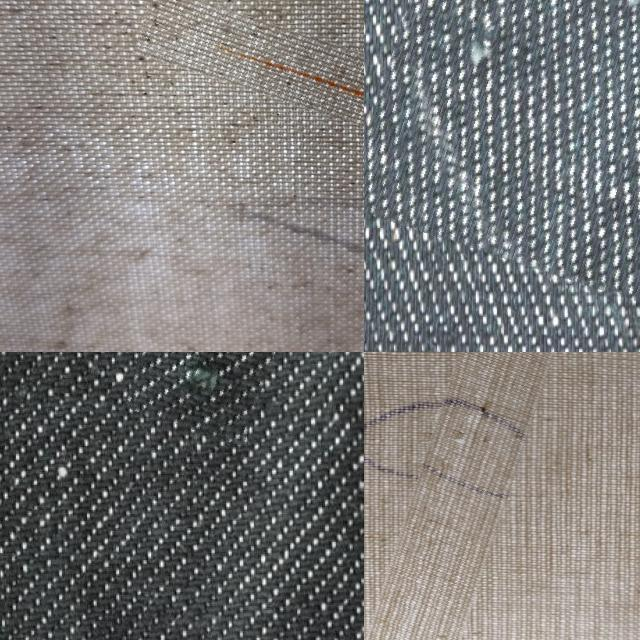stains: (372, 0, 640, 325), (368, 352, 534, 640), (134, 12, 364, 138), (131, 352, 272, 438)
